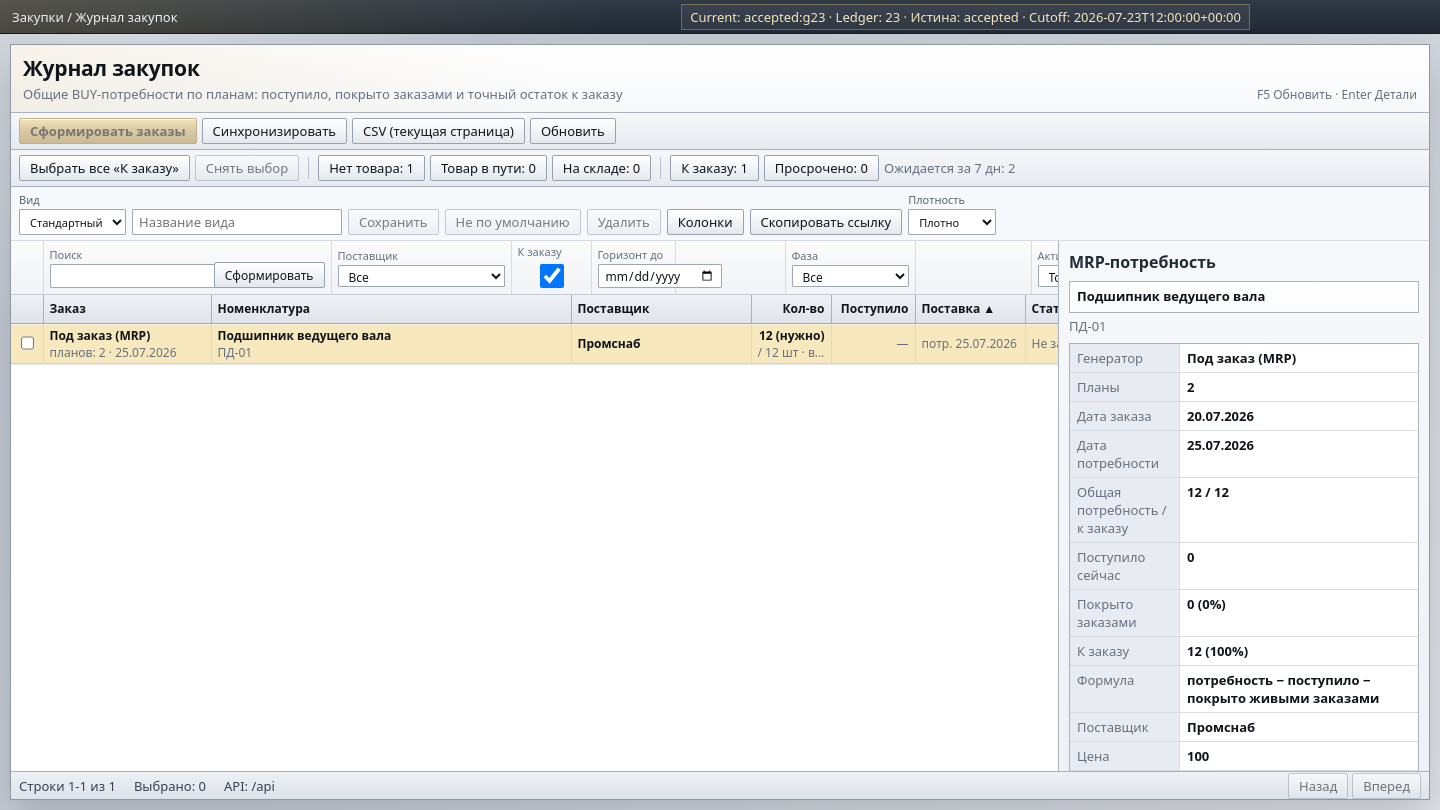
Test: PurchaseControlPage Doctype migration › keeps guarded MRP selection and materialization flow
The image size is (1440, 810).
Click the checkbox named "Выбрать строку buy:9:default" at coordinates (28, 343), box [21,331,34,355]
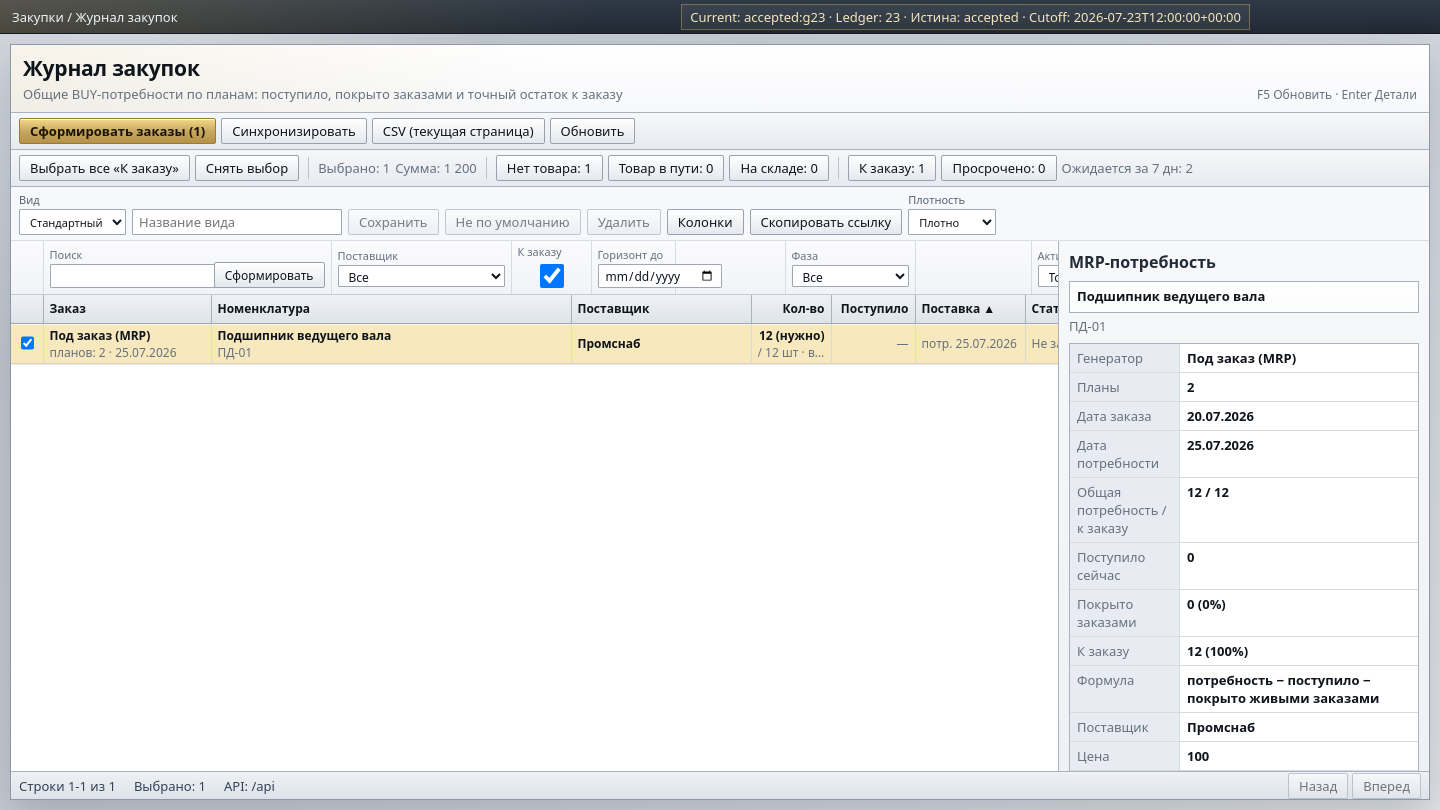
Check: the text "Сумма: 1 200" is shown, box [395,159,477,177]
Click the button "Сформировать заказы (1)" at coordinates (118, 131), box [19,118,216,144]
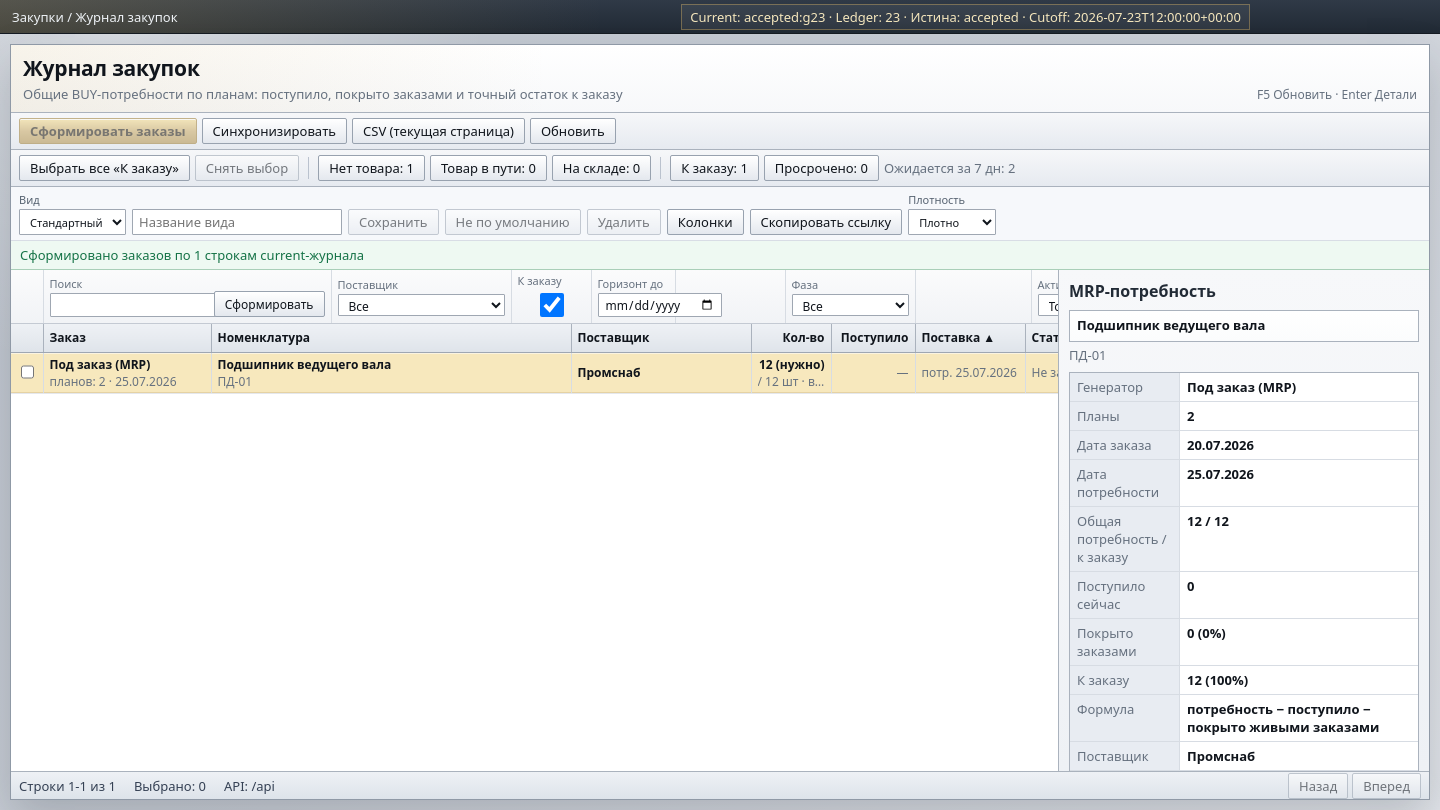
Check: the text "Сформировано заказов по 1 строкам current-журнала" is shown, box [11,241,1429,270]
